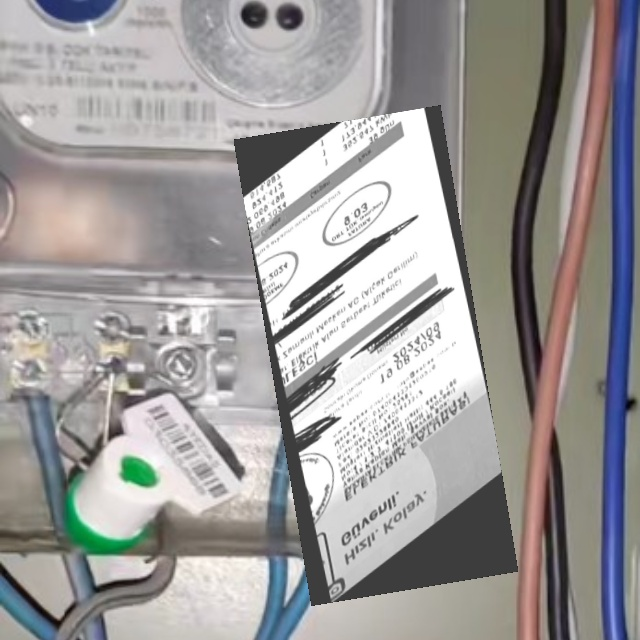electricity-bill: (234, 105, 518, 606)
